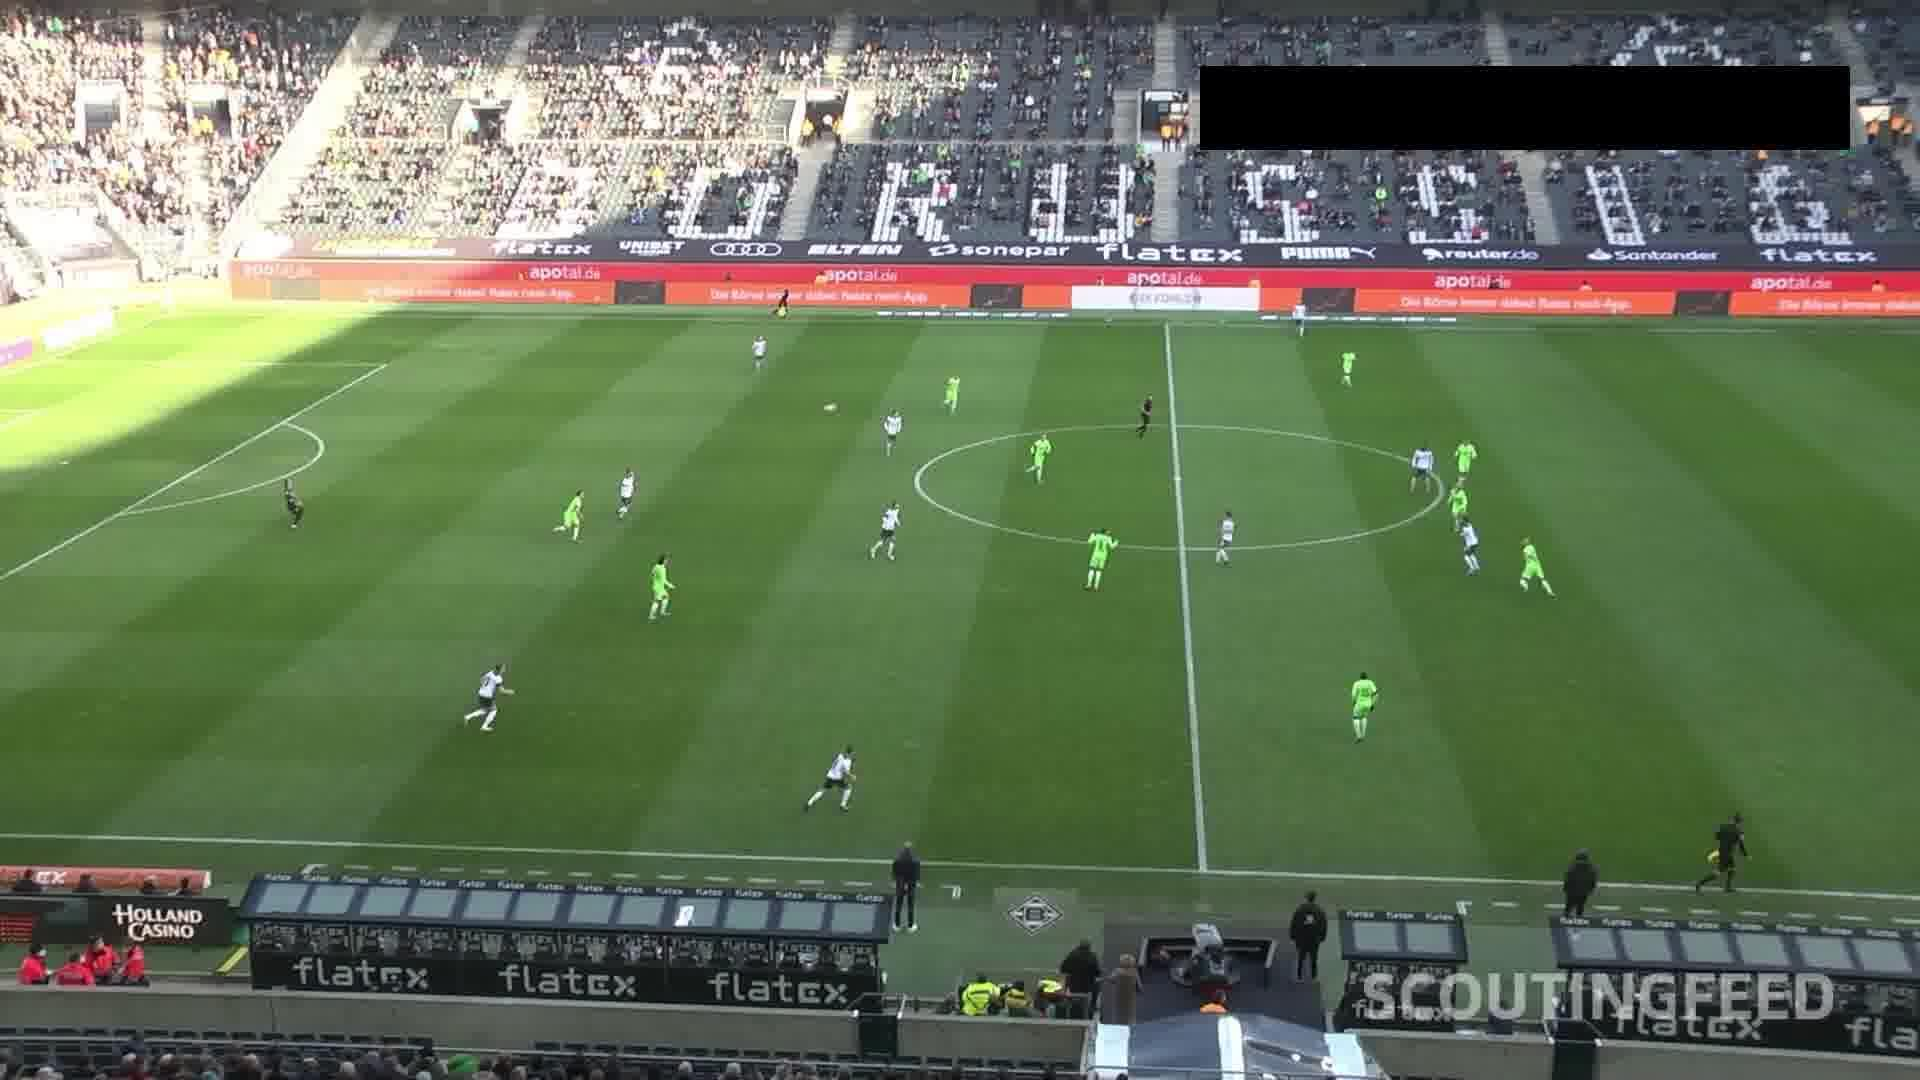football: (824, 400, 840, 415)
